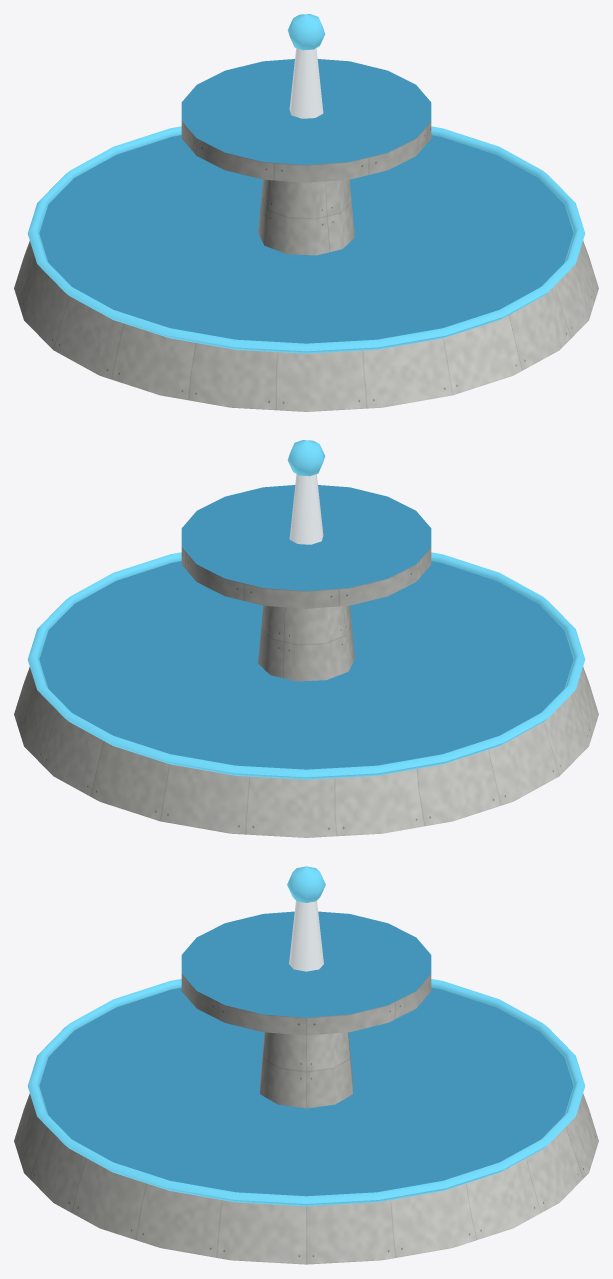
Rendered from prop_plaza_fountain.glb.
The picture shows the model from 3 angles, top to bottom: view 1: azimuth 30°, elevation 25°; view 2: azimuth 150°, elevation 25°; view 3: azimuth 270°, elevation 25°; orthographic projection.
Visible parts, largest first — view 1: prop_plaza_fountain_LOD0; view 2: prop_plaza_fountain_LOD0; view 3: prop_plaza_fountain_LOD0.
Boxes of the visible parts, x1,y1,x2,y2 form: prop_plaza_fountain_LOD0: [14, 14, 598, 411]; prop_plaza_fountain_LOD0: [14, 440, 598, 837]; prop_plaza_fountain_LOD0: [14, 866, 598, 1264].
Size of what is drawn, in the model's own units: 6 by 3.1 by 6.
Materials: 2 (2 with a texture image).
